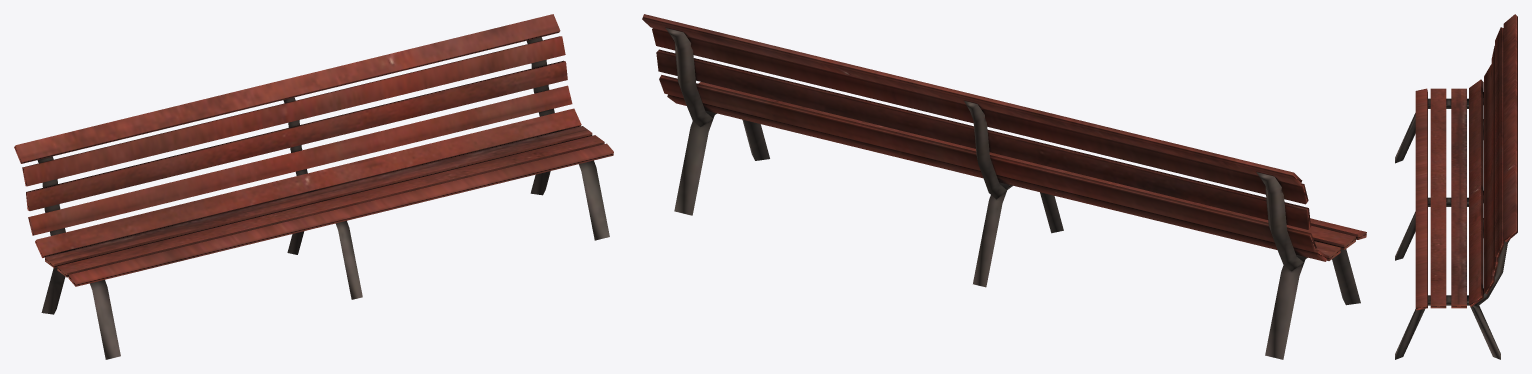
File: parkbank_02.fbx
The picture shows the model from 3 angles, left to right: view 1: azimuth 30°, elevation 25°; view 2: azimuth 150°, elevation 25°; view 3: azimuth 270°, elevation 25°; orthographic projection. The views are drawn at different scales.
Visible parts, largest first — view 1: Mesh; view 2: Mesh; view 3: Mesh.
Part boxes in pixels (x1,y1,x2,y2): Mesh: (14, 14, 613, 359); Mesh: (642, 14, 1366, 359); Mesh: (1395, 14, 1517, 359).
Size of the model in its own units: 286 by 84.09 by 68.54.
